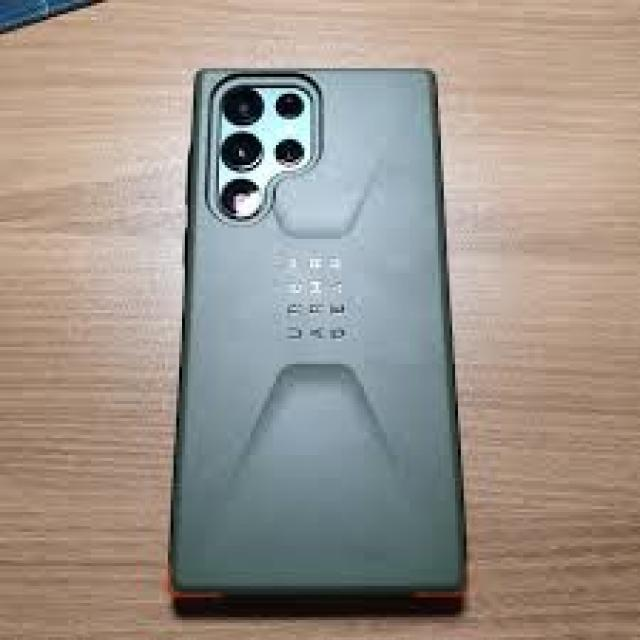lens: (211, 79, 326, 222)
phone: (175, 56, 476, 604)
